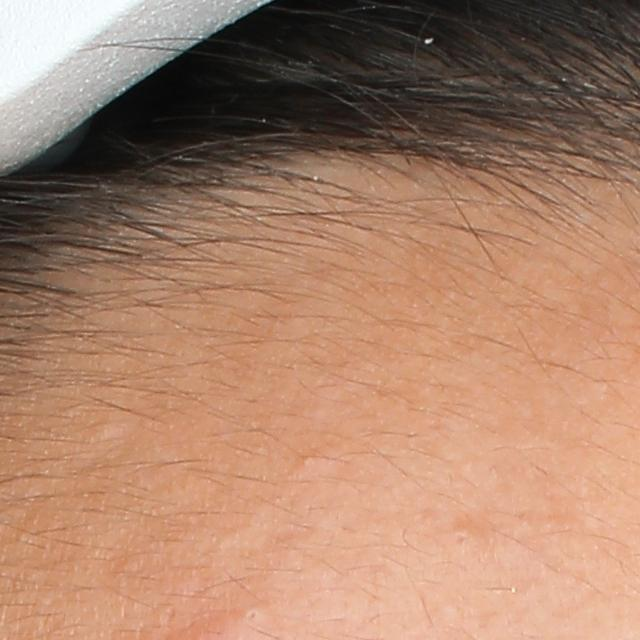comedo: (283, 445, 350, 479), (437, 523, 483, 556), (243, 602, 272, 625)
